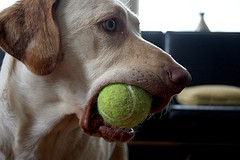tennis ball: (96, 83, 152, 128)
